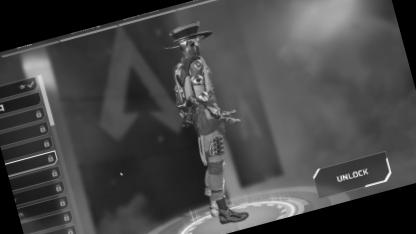Target: (152, 18, 244, 201)
